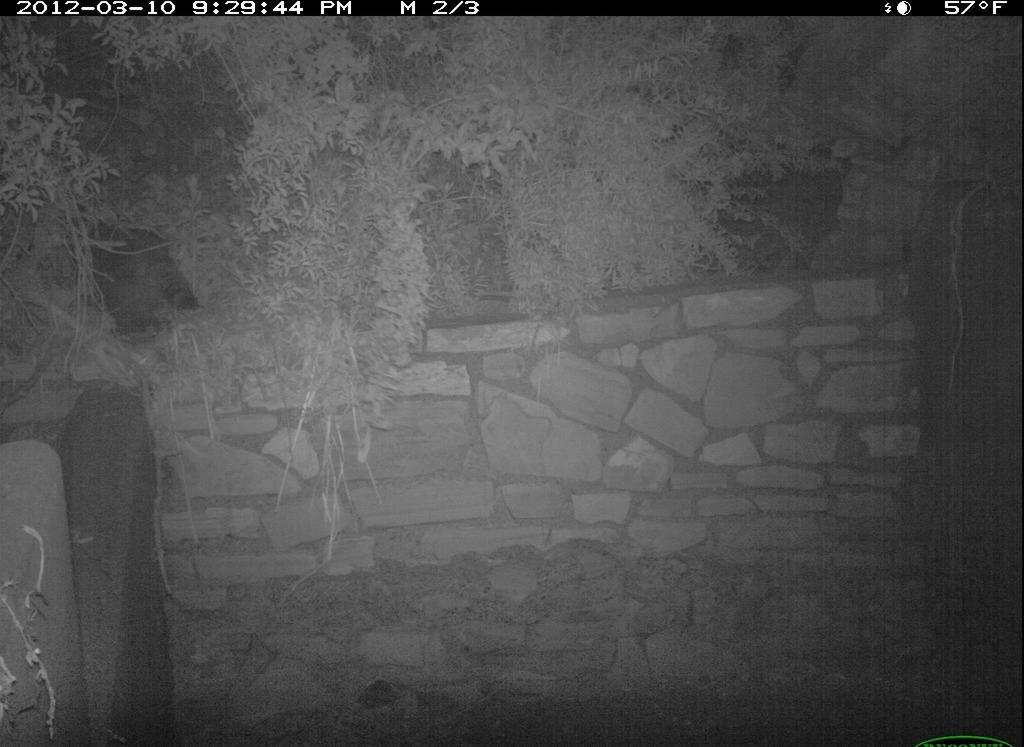raccoon: (59, 221, 204, 336)
